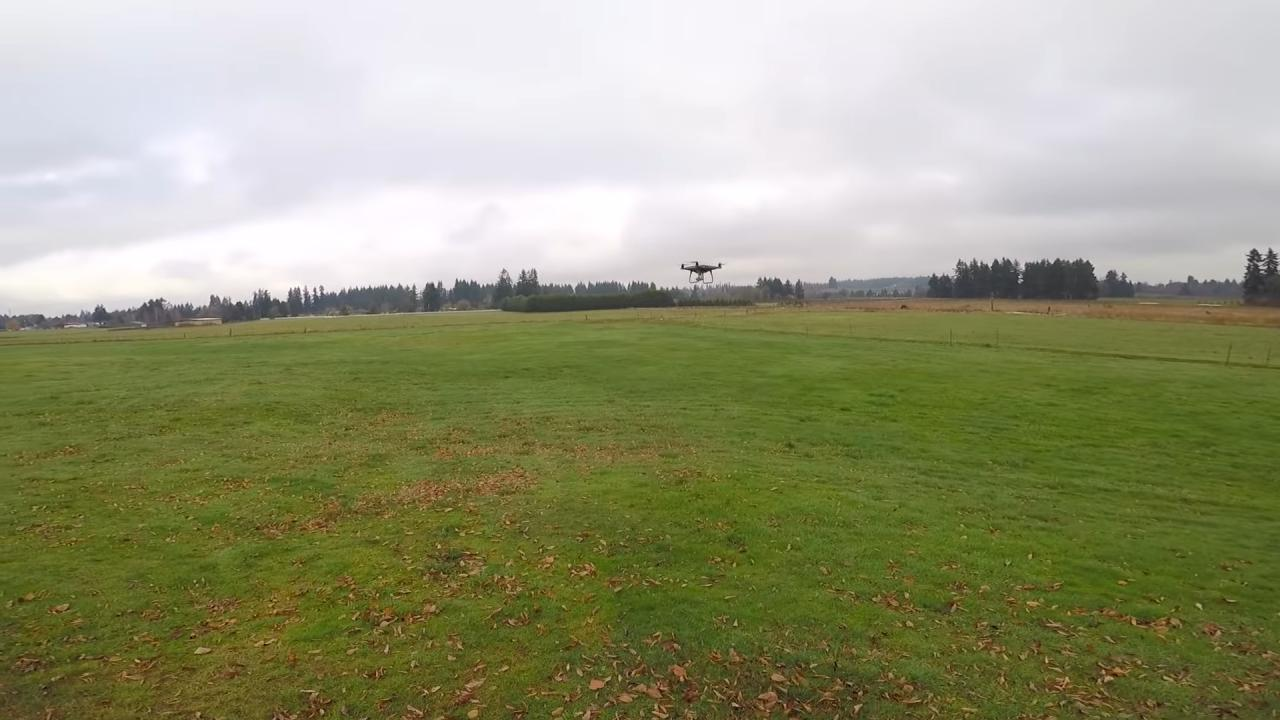Drone: (672, 251, 732, 291)
